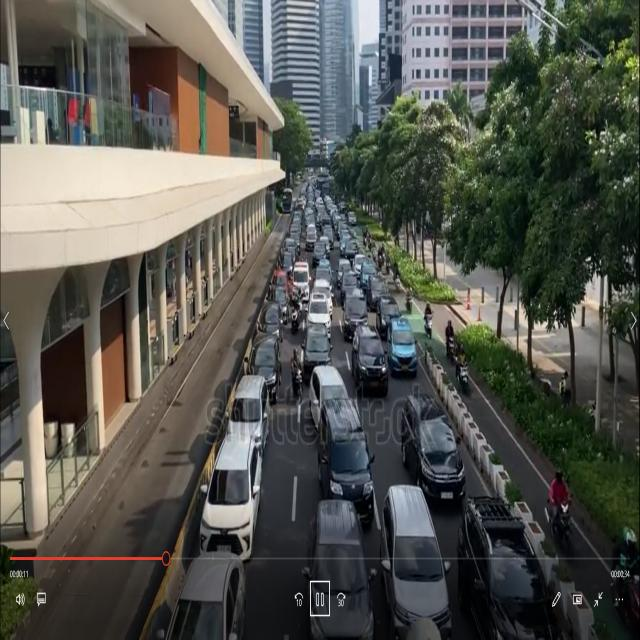Ambulance: (290, 253, 310, 304)
